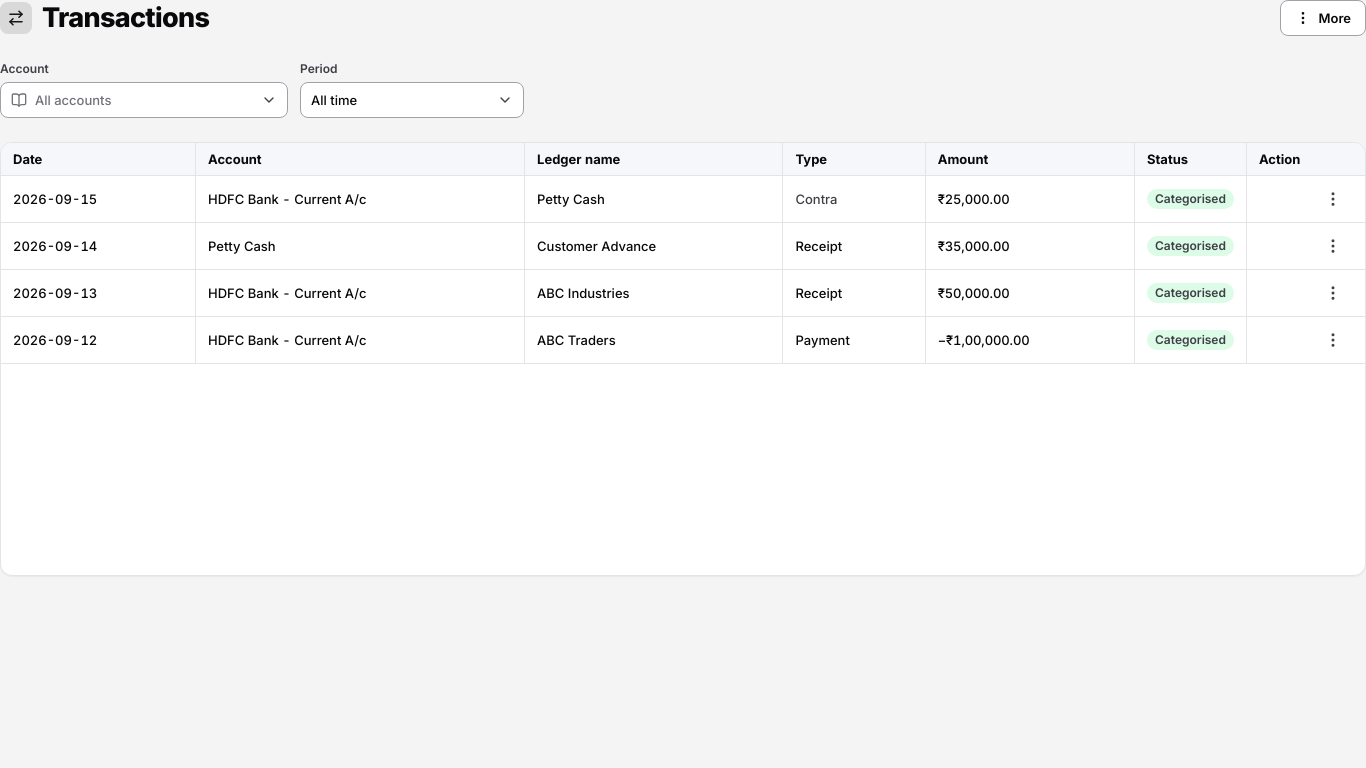
it: starting an entry › keeps import and export under More
Expected: the button "Import Statement" is not shown
Click the button "More". click: click(1323, 18)
box: [1280,0,1365,36]
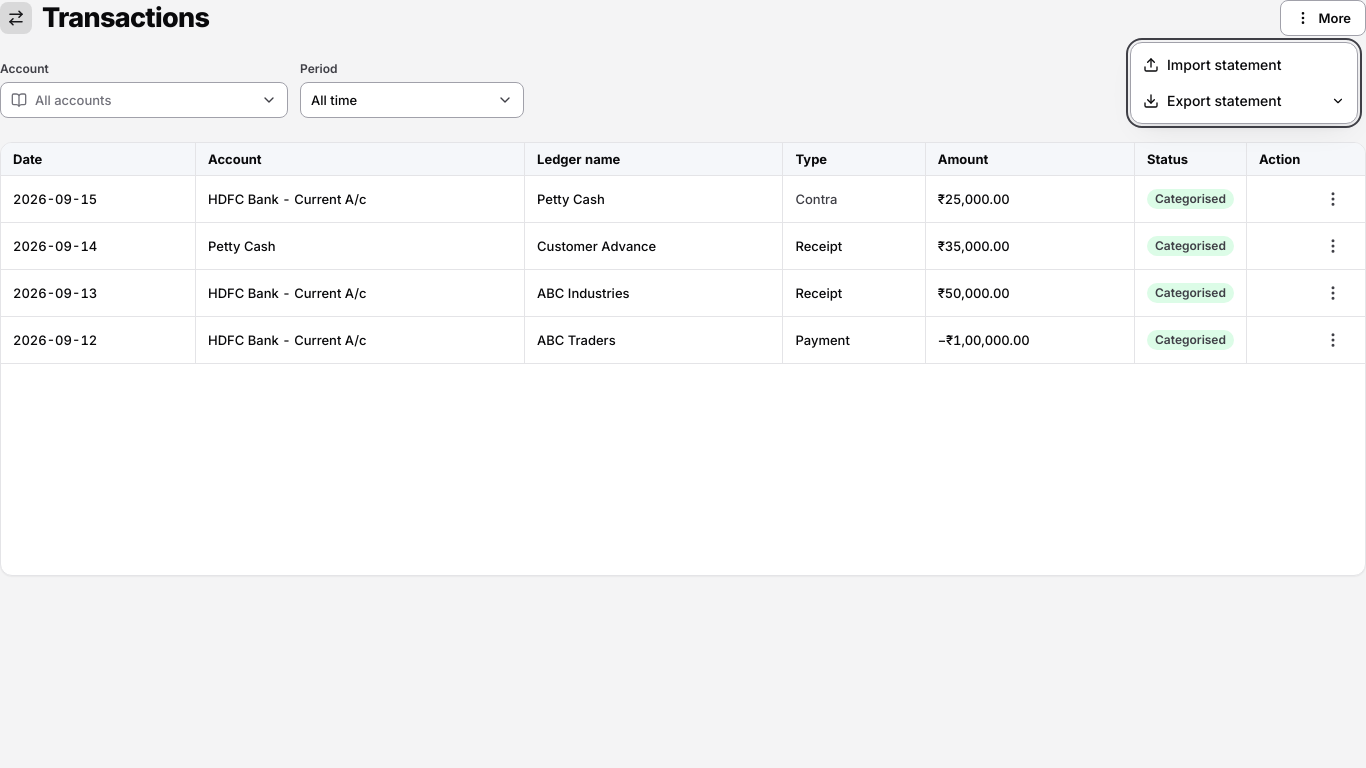
Now the menu item "Import statement" is shown, box [1131,47,1357,83]
Now the menu item "Export statement" is shown, box [1131,83,1357,119]
